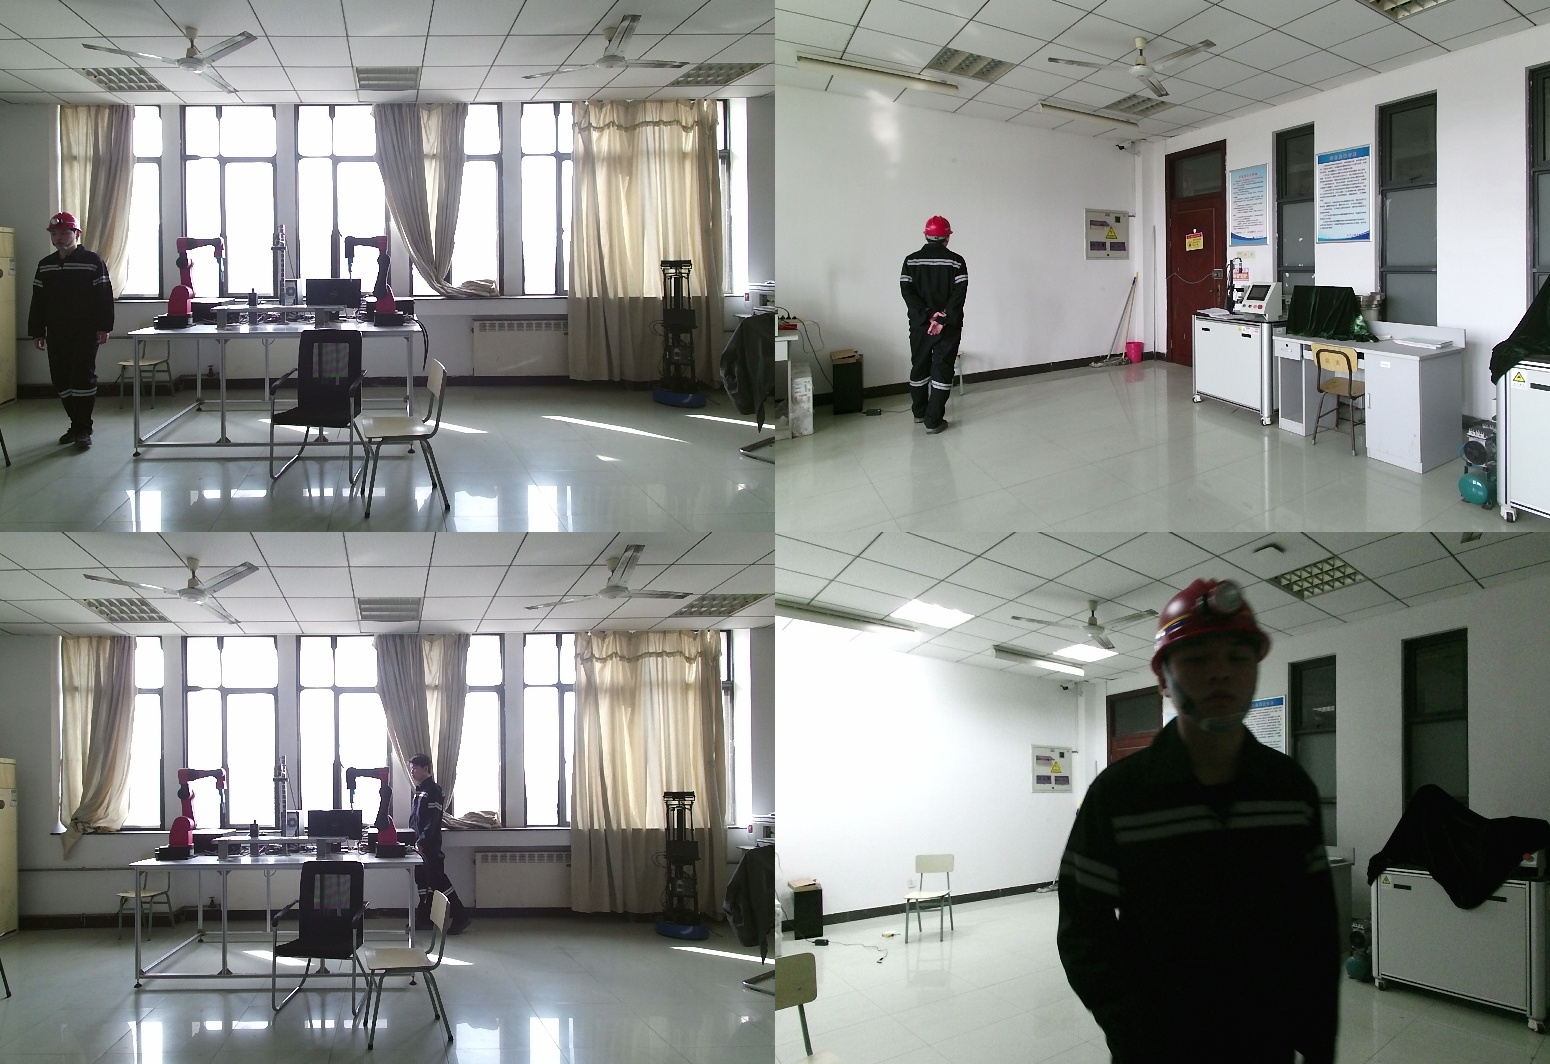person: (1057, 587, 1367, 1064), (28, 215, 126, 447), (895, 216, 981, 438), (407, 752, 470, 939)
